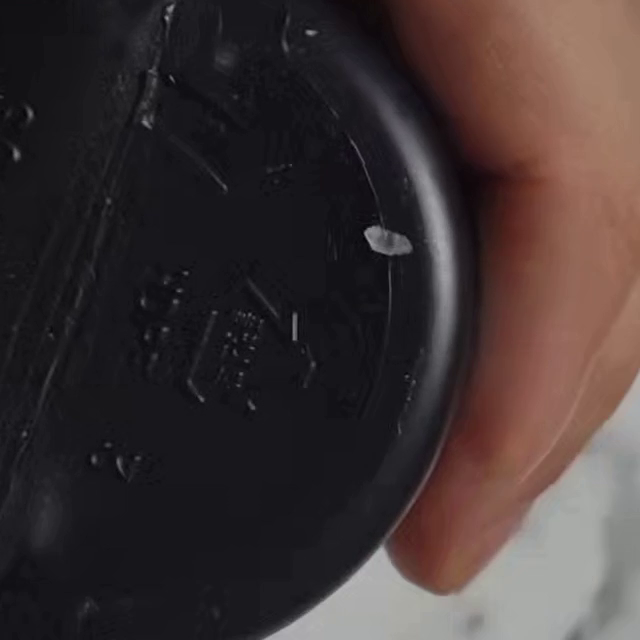Plastic: (183, 276, 322, 416)
